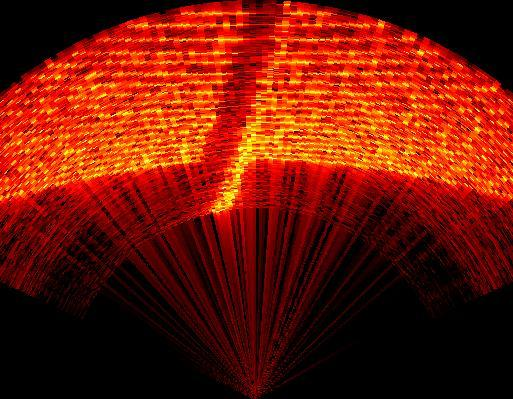pipe: (196, 3, 300, 219)
